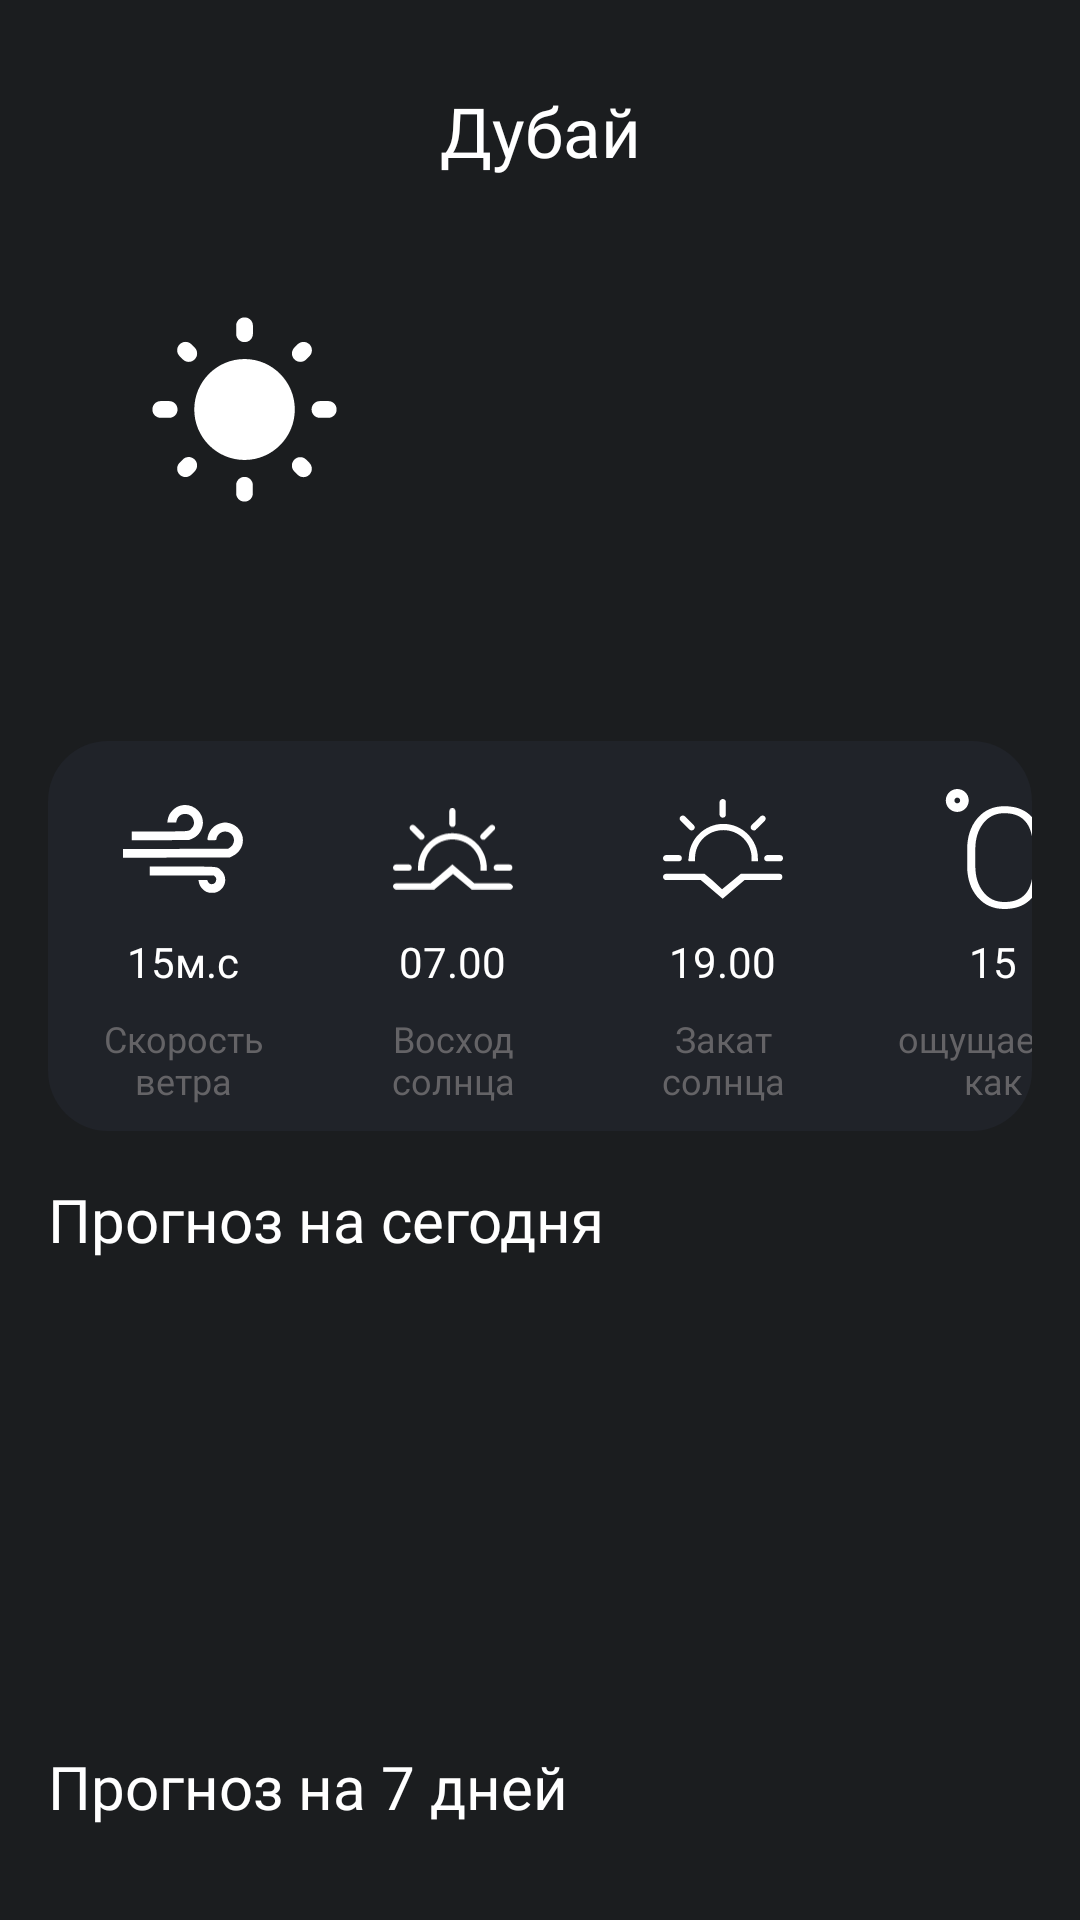

Where icons sit on this 1080*1920 app screen, as (x1, y1, x2, y2):
sun rise: (393, 808, 513, 890)
sun set: (663, 799, 783, 899)
sun status: (152, 317, 337, 502)
wind: (123, 805, 243, 893)
